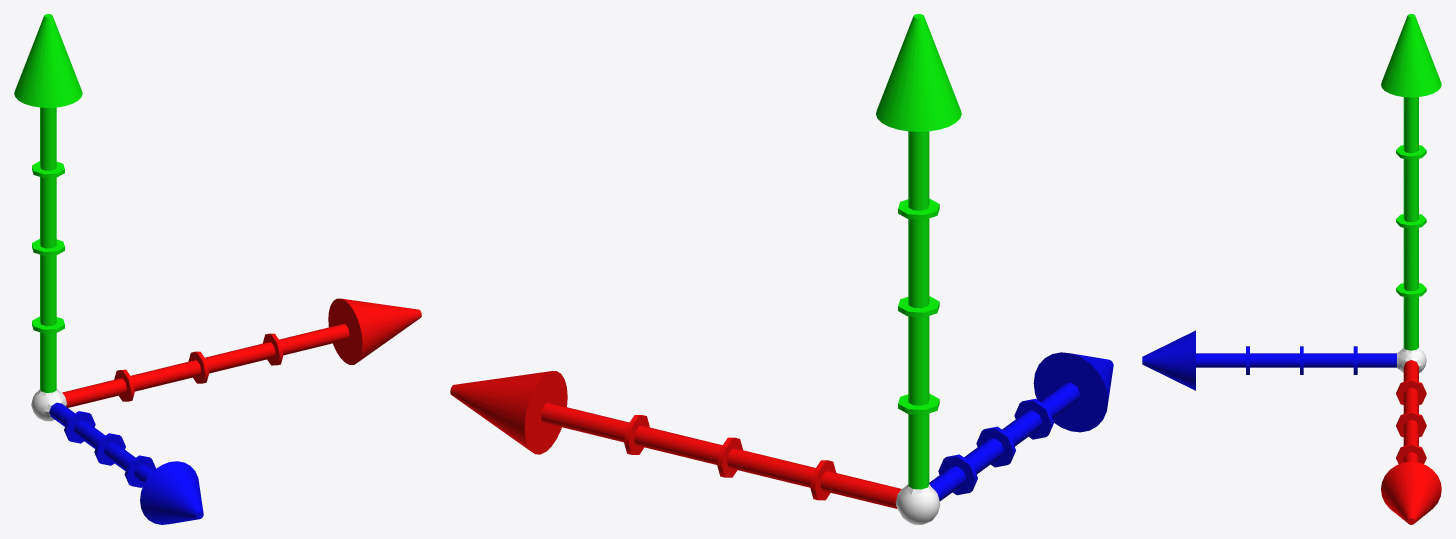
The model's file is repereDatom.obj.
3 renders of one model, left to right at view 1: azimuth 30°, elevation 25°; view 2: azimuth 150°, elevation 25°; view 3: azimuth 270°, elevation 25°, orthographic. The views are drawn at different scales.
Parts seen in each view (by area): view 1: repere; view 2: repere; view 3: repere.
Boxes of the visible parts, x1,y1,x2,y2 form: repere: [14, 14, 421, 524]; repere: [450, 14, 1113, 524]; repere: [1142, 14, 1441, 524].
Size of the model in its own units: 54 by 54 by 39.36.
